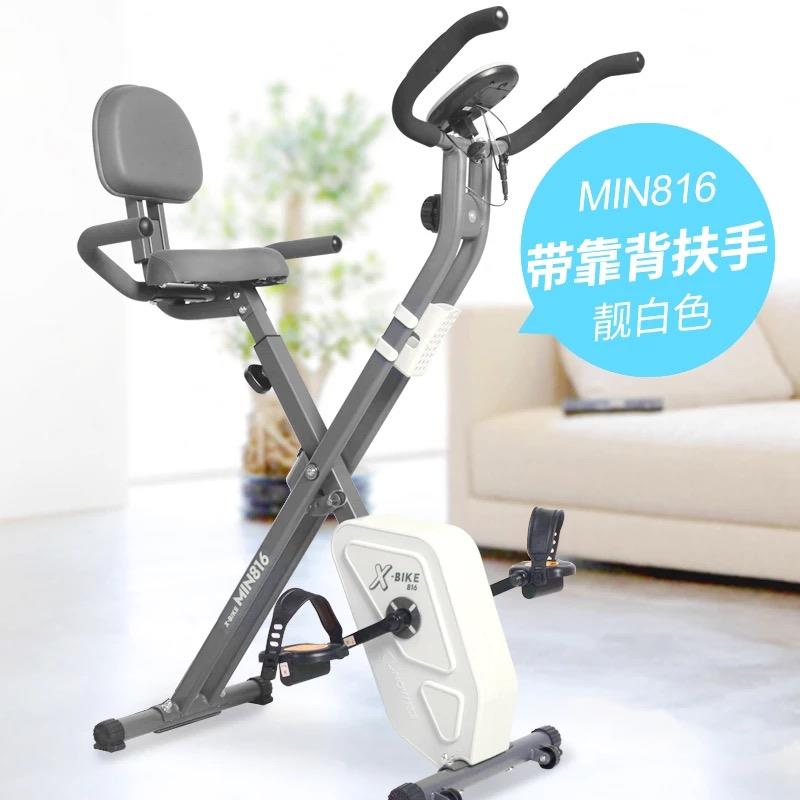gym_bike: (87, 17, 639, 796)
